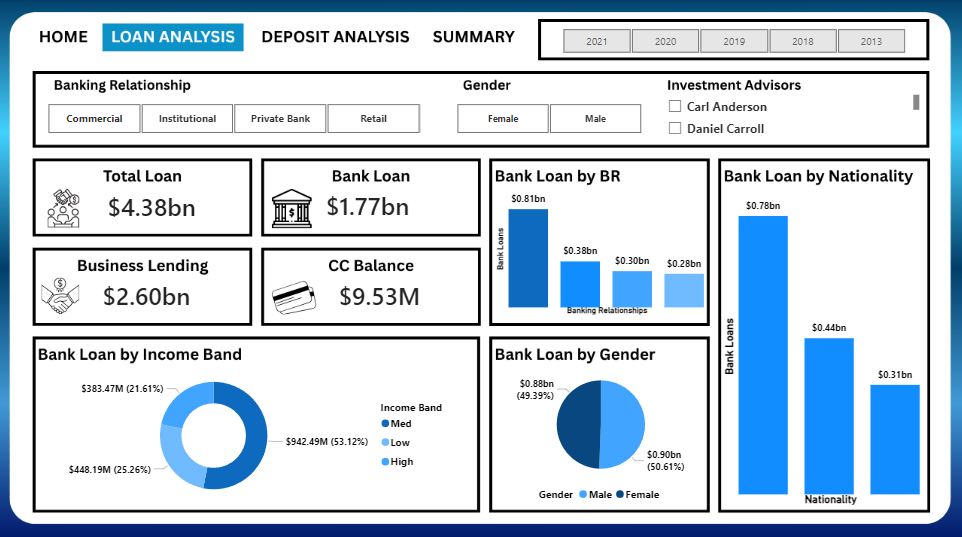

This screenshot's page, from the dashboard's own definition file:
{"tool":"powerbi","page":{"name":"Loan Analysis","canvas":[1280,720],"ordinal":1},"visuals":[{"type":"slicer","fields":{"Values":["Banking_Clients.Year of Joining"]},"box":[723.9,32.7,504,44.5],"z":0},{"type":"actionButton","box":[40.6,32.7,87.7,35.3],"z":1000},{"type":"actionButton","box":[341.7,32.7,206.8,35.3],"z":2000},{"type":"actionButton","box":[570.8,32.7,120.4,35.3],"z":3000},{"type":"cardVisual","fields":{"Data":["Banking_Clients.Total Loan"]},"box":[100.8,240.5,204.5,66.2],"z":4000},{"type":"cardVisual","fields":{"Data":["Sum(Banking_Clients.Bank Loans)"]},"box":[397.4,240.5,185.8,64.8],"z":5000},{"type":"cardVisual","fields":{"Data":["Sum(Banking_Clients.Business Lending)"]},"box":[100.8,360,190.1,64.8],"z":6000},{"type":"cardVisual","fields":{"Data":["Sum(Banking_Clients.Credit Card Balance)"]},"box":[410.4,360,190.1,64.8],"z":7000},{"type":"donutChart","fields":{"Category":["Banking_Clients.Income Band"],"Y":["Sum(Banking_Clients.Bank Loans)"]},"box":[59,483.8,558.7,193],"z":8000},{"type":"columnChart","fields":{"Category":["Banking_Clients.BRId"],"Y":["Sum(Banking_Clients.Bank Loans)"]},"box":[655.2,240.5,289.4,184.3],"z":9000},{"type":"columnChart","fields":{"Y":["Sum(Banking_Clients.Bank Loans)"],"Category":["Banking_Clients.Nationality"]},"box":[957.6,250.6,276.5,426.2],"z":10000},{"type":"pieChart","fields":{"Category":["Banking_Clients.GenderId"],"Y":["Sum(Banking_Clients.Bank Loans)"]},"box":[655.2,483.8,289.4,193],"z":11000},{"type":"slicer","fields":{"Values":["Banking_Clients.BRId"]},"box":[40.3,132.5,542.9,51.8],"z":12000},{"type":"slicer","fields":{"Values":["Banking_Clients.GenderId"]},"box":[583.2,132.5,293.8,51.8],"z":13000},{"type":"slicer","fields":{"Values":["Banking_Clients.IAId"]},"box":[877,122.4,351.4,61.9],"z":14000}]}

Visuals, with their boxes in screenshot pixels (x1, y1, x2, y2), scaled from the page's 1280x720 canvas onto the 962x537 screenshot:
slicer - Banking_Clients.Year of Joining: (544, 24, 923, 58)
actionButton: (31, 24, 96, 51)
actionButton: (257, 24, 412, 51)
actionButton: (429, 24, 519, 51)
cardVisual - Banking_Clients.Total Loan: (76, 179, 229, 229)
cardVisual - Sum(Banking_Clients.Bank Loans): (299, 179, 438, 228)
cardVisual - Sum(Banking_Clients.Business Lending): (76, 268, 219, 317)
cardVisual - Sum(Banking_Clients.Credit Card Balance): (308, 268, 451, 317)
donutChart - Banking_Clients.Income Band x Sum(Banking_Clients.Bank Loans): (44, 361, 464, 505)
columnChart - Banking_Clients.BRId x Sum(Banking_Clients.Bank Loans): (492, 179, 710, 317)
columnChart - Sum(Banking_Clients.Bank Loans) x Banking_Clients.Nationality: (720, 187, 928, 505)
pieChart - Banking_Clients.GenderId x Sum(Banking_Clients.Bank Loans): (492, 361, 710, 505)
slicer - Banking_Clients.BRId: (30, 99, 438, 137)
slicer - Banking_Clients.GenderId: (438, 99, 659, 137)
slicer - Banking_Clients.IAId: (659, 91, 923, 137)
